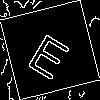E: (25, 25, 77, 81)
